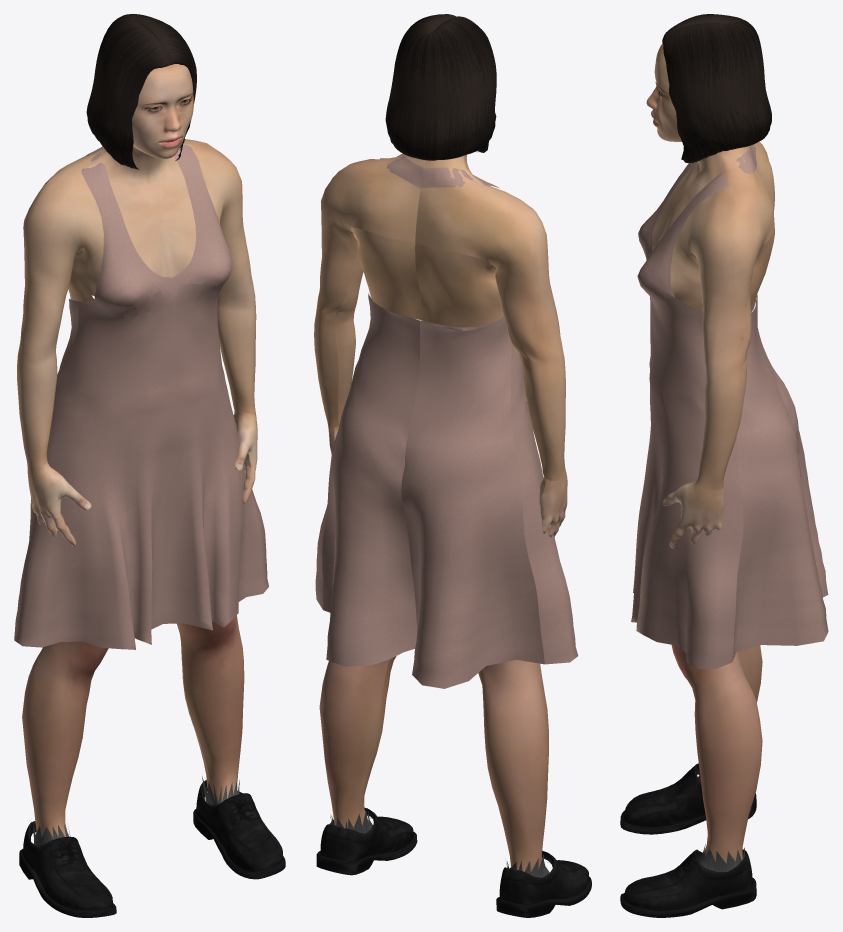
File: short-dress.glb
The picture shows the model from 3 angles, left to right: view 1: azimuth 30°, elevation 25°; view 2: azimuth 150°, elevation 25°; view 3: azimuth 270°, elevation 25°; orthographic projection. The views are drawn at different scales.
Parts seen in each view (by area): view 1: clothing, skin, shoes, hair; view 2: clothing, skin, hair, shoes; view 3: clothing, skin, hair, shoes.
Boxes of the visible parts, x1=… form: clothing: x1=14, y1=145, x2=268, y2=649; skin: x1=17, y1=64, x2=257, y2=837; shoes: x1=19, y1=776, x2=285, y2=917; hair: x1=86, y1=14, x2=196, y2=169; clothing: x1=315, y1=156, x2=578, y2=688; skin: x1=314, y1=153, x2=567, y2=871; hair: x1=385, y1=14, x2=496, y2=160; shoes: x1=316, y1=807, x2=591, y2=917; clothing: x1=631, y1=144, x2=828, y2=668; skin: x1=646, y1=44, x2=774, y2=863; hair: x1=662, y1=14, x2=771, y2=163; shoes: x1=620, y1=763, x2=756, y2=917.
Size of the model in its own units: 0.4572 by 1.49 by 0.3333.
Materials: 9 (9 with a texture image).
